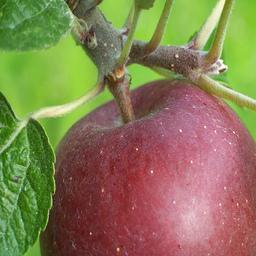apple: (44, 85, 256, 253)
